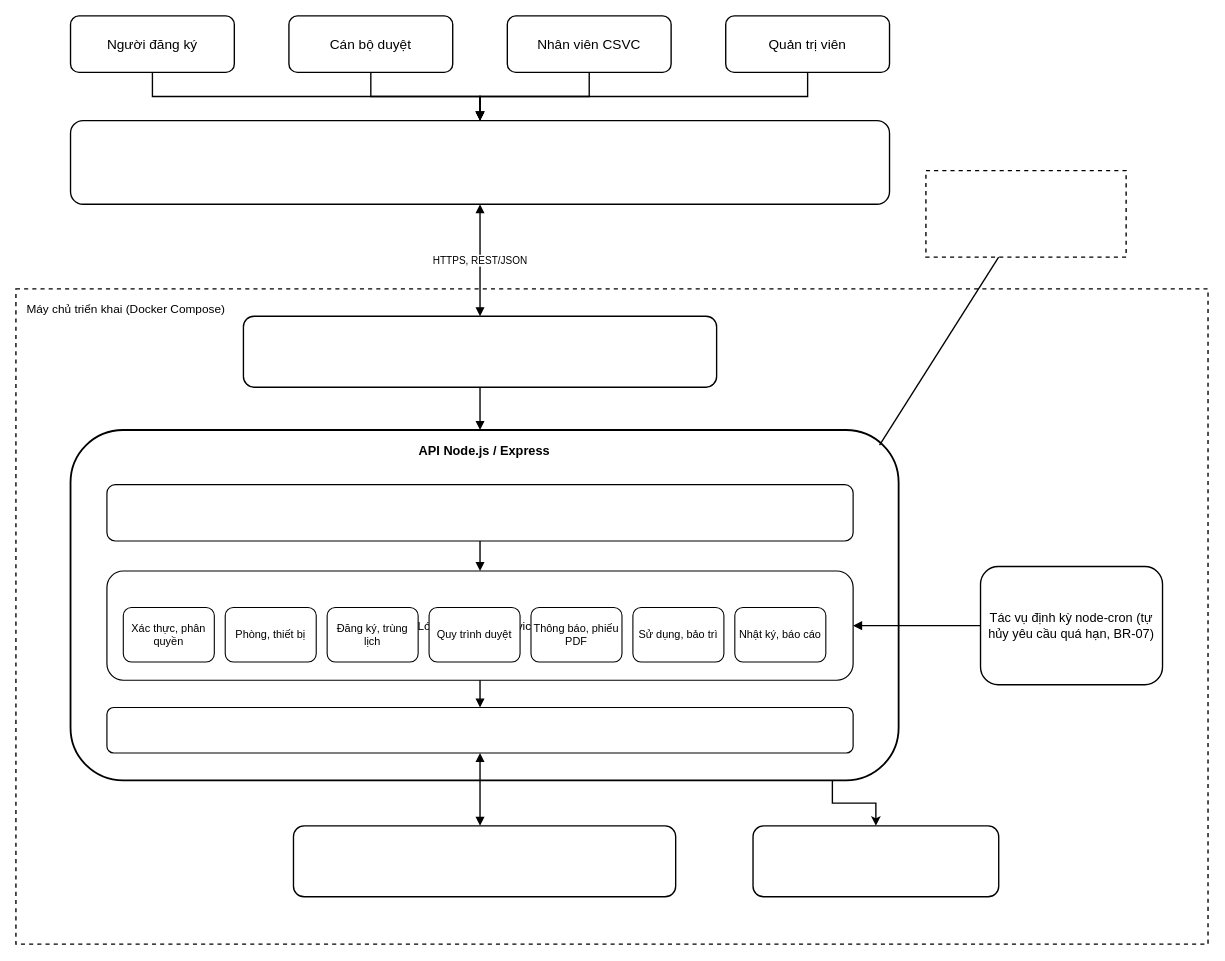
Image size: 1225x961. Some labels were removed from this diagram. The shapes that lost their labels are listed below. From the top down, each one's centre as x and y in pixels, then its label:
At (x=479, y=162): "Trình duyệt web Ứng dụng React (giao diện, kiểm tra dữ liệu nhập, gọi API)".
At (x=1025, y=213): "Máy chủ email SMTP (bên ngoài)".
At (x=479, y=351): "Nginx phục vụ bản build React, chuyển tiếp /api".
At (x=479, y=512): "Lớp điều khiển: định tuyến, xác thực JWT, kiểm tra vai trò, kiểm tra dữ liệu vào".
At (x=479, y=730): "Lớp truy cập dữ liệu: Prisma ORM".
At (x=484, y=861): "PostgreSQL ràng buộc chống trùng lịch (EXCLUDE USING GIST)".
At (x=875, y=861): "Thư mục lưu ảnh báo hỏng (volume)".
